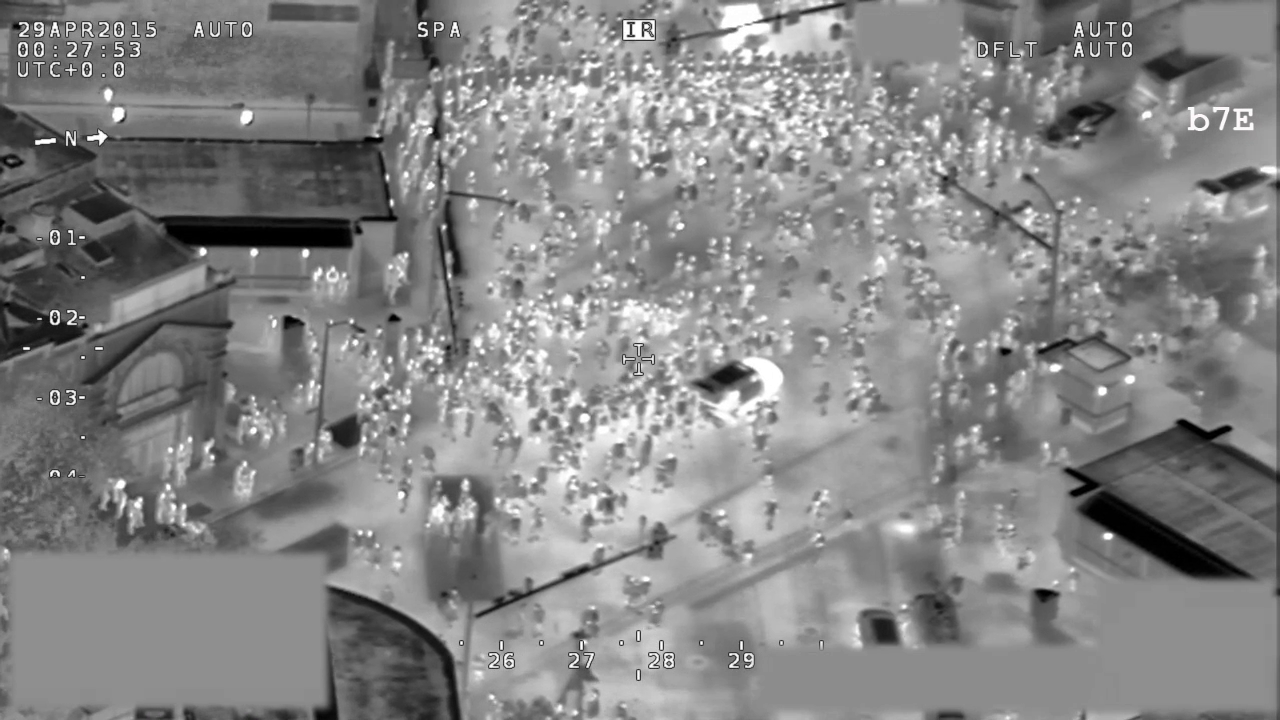vehicle: (685, 345, 786, 430), (1187, 161, 1280, 228), (1032, 96, 1122, 156)
